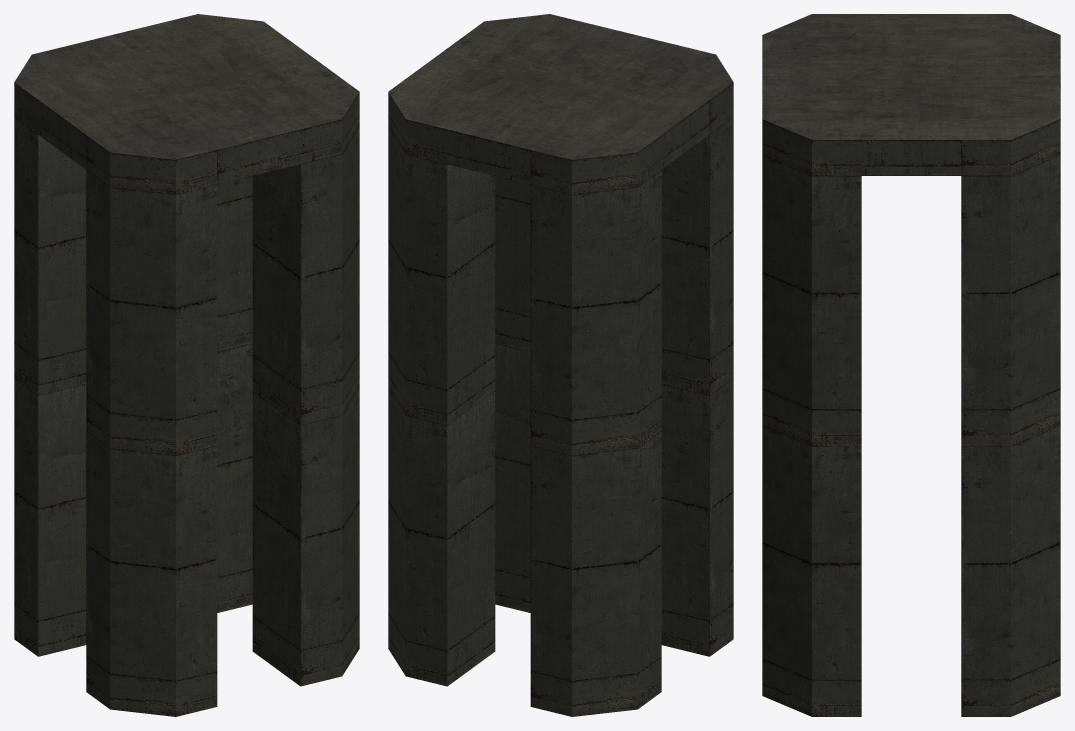
File: platform_mx_1.glb
3 views of the same model, side by side, from view 1: azimuth 30°, elevation 25°; view 2: azimuth 150°, elevation 25°; view 3: azimuth 270°, elevation 25° (orthographic). The views are drawn at different scales.
Parts seen in each view (by area): view 1: platform_mx_1; view 2: platform_mx_1; view 3: platform_mx_1.
Boxes of the visible parts, bbox=[...] form: platform_mx_1: bbox=[14, 14, 359, 716]; platform_mx_1: bbox=[388, 14, 733, 716]; platform_mx_1: bbox=[762, 14, 1060, 716].
Bounding box in the file's own units: 3 × 6.4 × 3.
2 materials, 2 textured.
